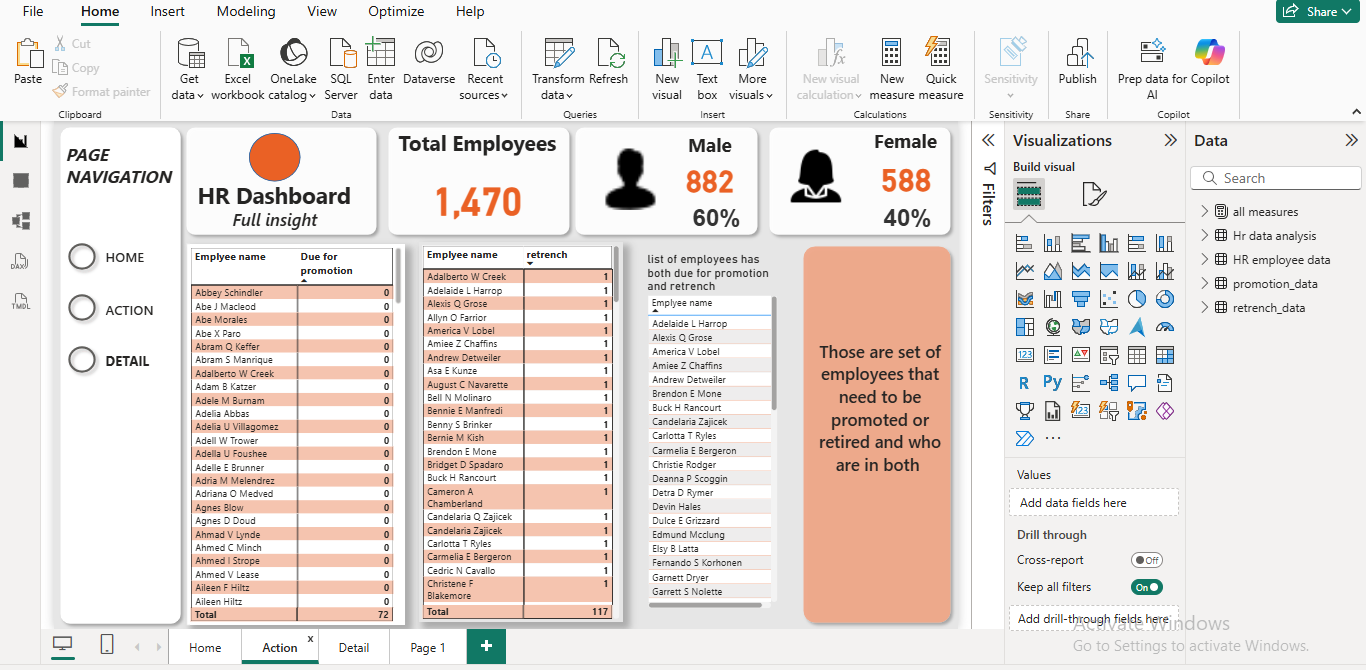

What the dashboard file says about the page in this screenshot:
{"tool":"powerbi","page":{"name":"Action","canvas":[1280,720],"ordinal":1},"visuals":[{"type":"shape","box":[0,0,188.5,721.4],"z":0},{"type":"shape","box":[464.8,0,274.6,170.2],"z":1000},{"type":"shape","box":[178.8,0,287.5,170.2],"z":2000},{"type":"shape","box":[729.4,0,276,170.2],"z":3000},{"type":"shape","box":[1005.4,0,274.6,170.2],"z":4000},{"type":"textbox","box":[198.8,78.7,238.8,52.9],"z":11000},{"type":"textbox","box":[188.8,117.3,248.8,52.9],"z":12000},{"type":"shape","box":[276,17.2,72.9,68.6],"z":13000},{"type":"card","title":"Total Employees","fields":{"Values":["all measures.total emp"]},"box":[476.2,10,247.4,154.5],"z":14000},{"type":"card","title":"Male","fields":{"Values":["all measures.male"]},"box":[868.1,15.7,121.6,95.8],"z":15000},{"type":"card","title":"Male","fields":{"Values":["all measures.percent_female"]},"box":[1149.9,111.6,121.6,45.8],"z":16000},{"type":"image","box":[768,34.3,100.1,97.3],"z":17000},{"type":"card","title":"Female","fields":{"Values":["all measures.female"]},"box":[1142.4,9.9,129,102],"z":18000},{"type":"card","title":"Male","fields":{"Values":["all measures.percent_male"]},"box":[878.1,111.6,121.6,45.8],"z":19000},{"type":"image","box":[1029.7,25.7,98.7,105.8],"z":20000},{"type":"actionButton","title":"HOME","box":[11.3,164.4,56.7,55.3],"z":33000},{"type":"textbox","box":[11.3,25.5,167.2,79.4],"z":34000},{"type":"textbox","box":[68,321.7,104.9,58.1],"z":35000},{"type":"actionButton","title":"HOME","box":[11.3,236.7,56.7,55.3],"z":36000},{"type":"actionButton","title":"HOME","box":[11.3,310.4,56.7,55.3],"z":37000},{"type":"textbox","box":[68,174.3,95,45.4],"z":38000},{"type":"textbox","box":[68,249.4,95,42.5],"z":39000},{"type":"pivotTable","fields":{"Rows":["HR employee data.Emplyee name"],"Values":["all measures.employees due to promotion"]},"box":[188.5,174.3,309,540],"z":39001},{"type":"tableEx","title":"list of employees has both due for promotion and retrench","fields":{"Values":["promotion_data.Emplyee name"]},"box":[836.2,185.7,194.2,510.2],"z":39002},{"type":"pivotTable","fields":{"Rows":["HR employee data.Emplyee name"],"Values":["all measures.retrench"]},"box":[517.3,171.5,289.1,538.6],"z":39003},{"type":"shape","box":[1053.1,168.7,226.8,551.3],"z":39004},{"type":"textbox","box":[1061.6,304.7,218.3,377],"z":39005}]}

Visuals, with their boxes on the page's 1280x720 design canvas (x1, y1, x2, y2). These are canvas units, not pixel positions in the 1366x670 screenshot, which may show the page scaled, cropped or inside an application window:
shape: <box>0,0,188,721</box>
shape: <box>465,0,739,170</box>
shape: <box>179,0,466,170</box>
shape: <box>729,0,1005,170</box>
shape: <box>1005,0,1280,170</box>
textbox: <box>199,79,438,132</box>
textbox: <box>189,117,438,170</box>
shape: <box>276,17,349,86</box>
"Total Employees" card: <box>476,10,724,164</box>
"Male" card: <box>868,16,990,112</box>
"Male" card: <box>1150,112,1272,157</box>
image: <box>768,34,868,132</box>
"Female" card: <box>1142,10,1271,112</box>
"Male" card: <box>878,112,1000,157</box>
image: <box>1030,26,1128,132</box>
"HOME" actionButton: <box>11,164,68,220</box>
textbox: <box>11,26,178,105</box>
textbox: <box>68,322,173,380</box>
"HOME" actionButton: <box>11,237,68,292</box>
"HOME" actionButton: <box>11,310,68,366</box>
textbox: <box>68,174,163,220</box>
textbox: <box>68,249,163,292</box>
pivotTable - HR employee data.Emplyee name x all measures.employees due to promotion: <box>188,174,498,714</box>
"list of employees has both due for promotion and retrench" tableEx: <box>836,186,1030,696</box>
pivotTable - HR employee data.Emplyee name x all measures.retrench: <box>517,172,806,710</box>
shape: <box>1053,169,1280,720</box>
textbox: <box>1062,305,1280,682</box>
